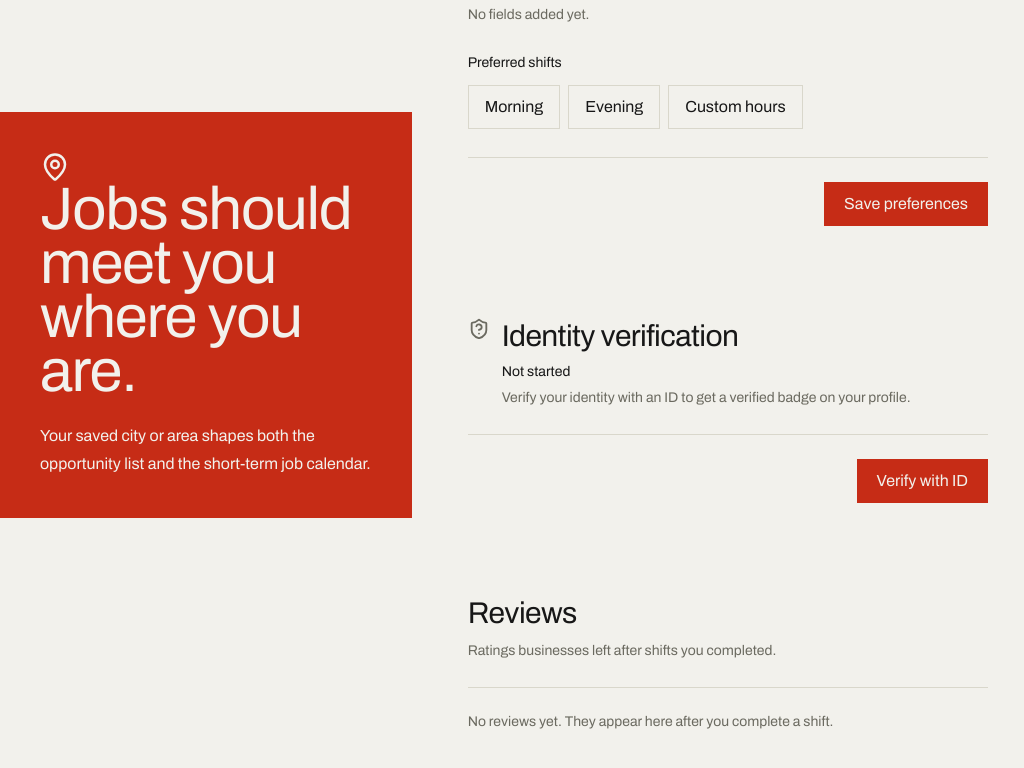
Test case: starts identity verification and opens the hosted link
The image size is (1024, 768).
(page scrolled)
Click the button "Verify with ID" at [922, 481], box [856,459,988,503]
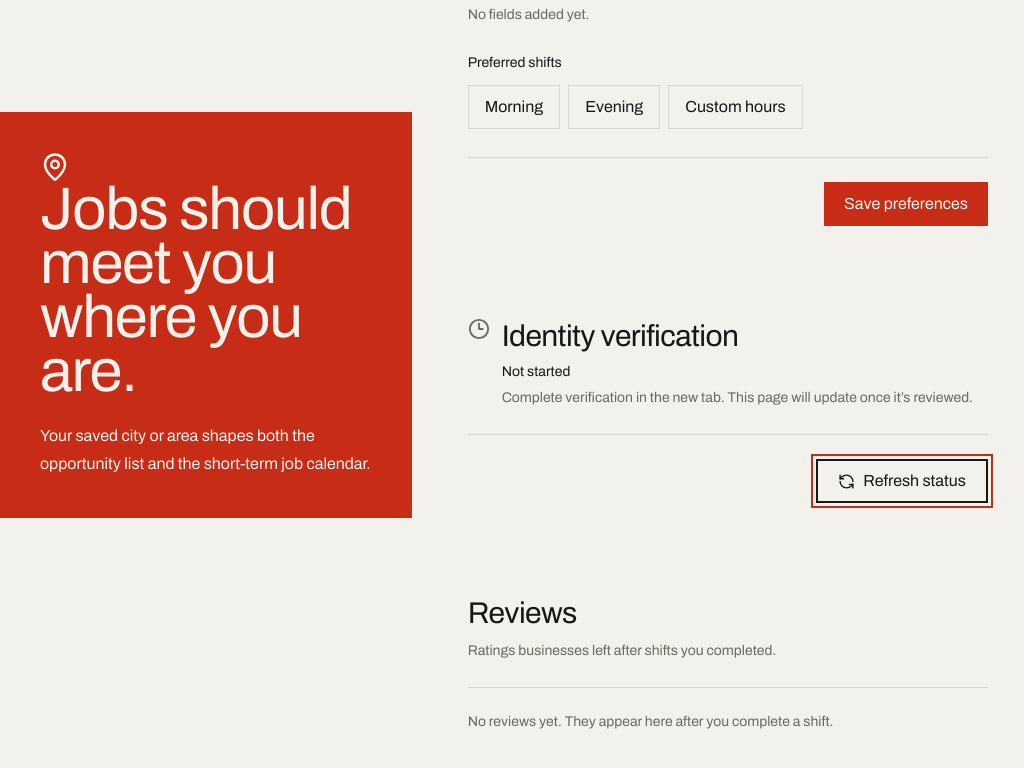
Expected: the text "Complete verification in the new tab. This page will update once it’s reviewed." is shown, [502,386,973,410]
